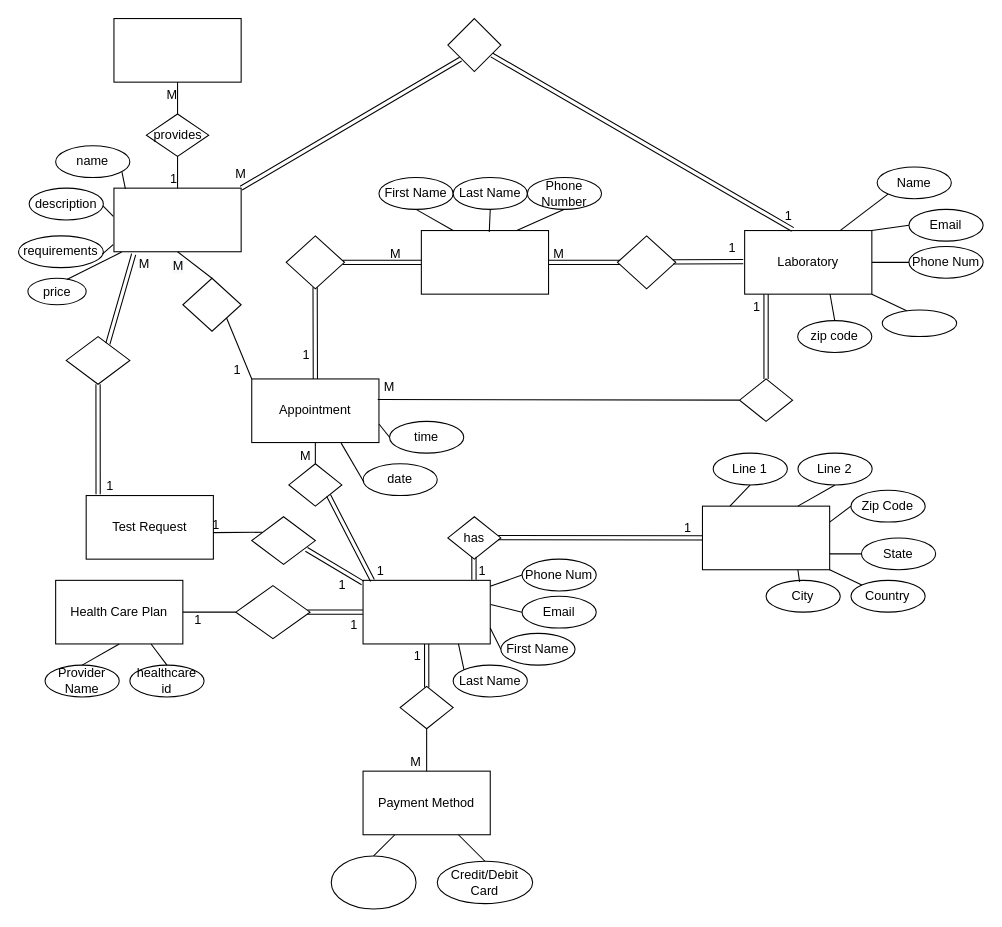
The diagram is 1002 pixels wide and 927 high, and some of its shapes have lost their labels. Each missing label, with the centre of its shape:
address: the point at 919,323
Bank Account Info: the point at 373,882
contains: the point at 97,359
creates: the point at 766,399
employs: the point at 646,262
includes: the point at 211,304
Lab Technician: the point at 484,261
Lab Test: the point at 177,219
Lab Test Results: the point at 177,49
offers: the point at 474,44
owns: the point at 315,484
performs: the point at 314,262
posseses: the point at 272,612
requests: the point at 283,540
User: the point at 426,611
User Address: the point at 765,537
uses: the point at 426,707
